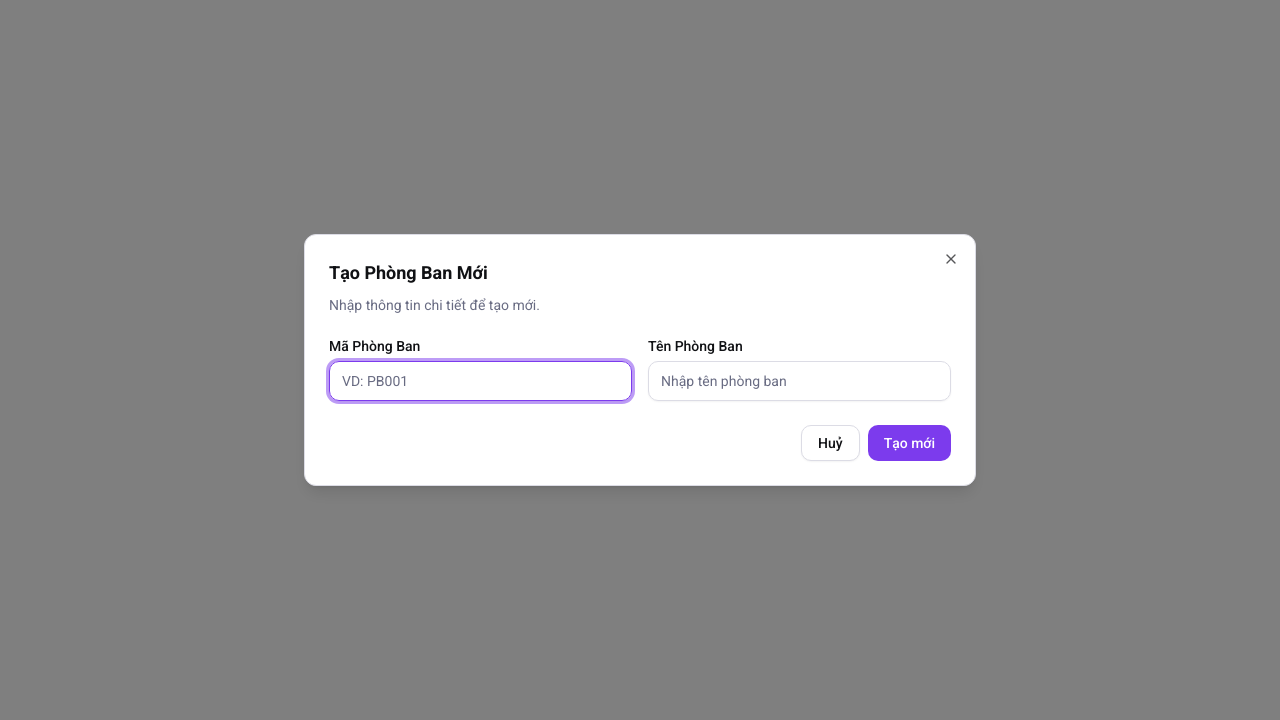
Scenario: CreateDepartmentDialog › shows validation error for short TenPB
Type "PB999" into the field labelled "Mã Phòng Ban".
click(480, 381); type("PB999")  # box [329,361,632,401]
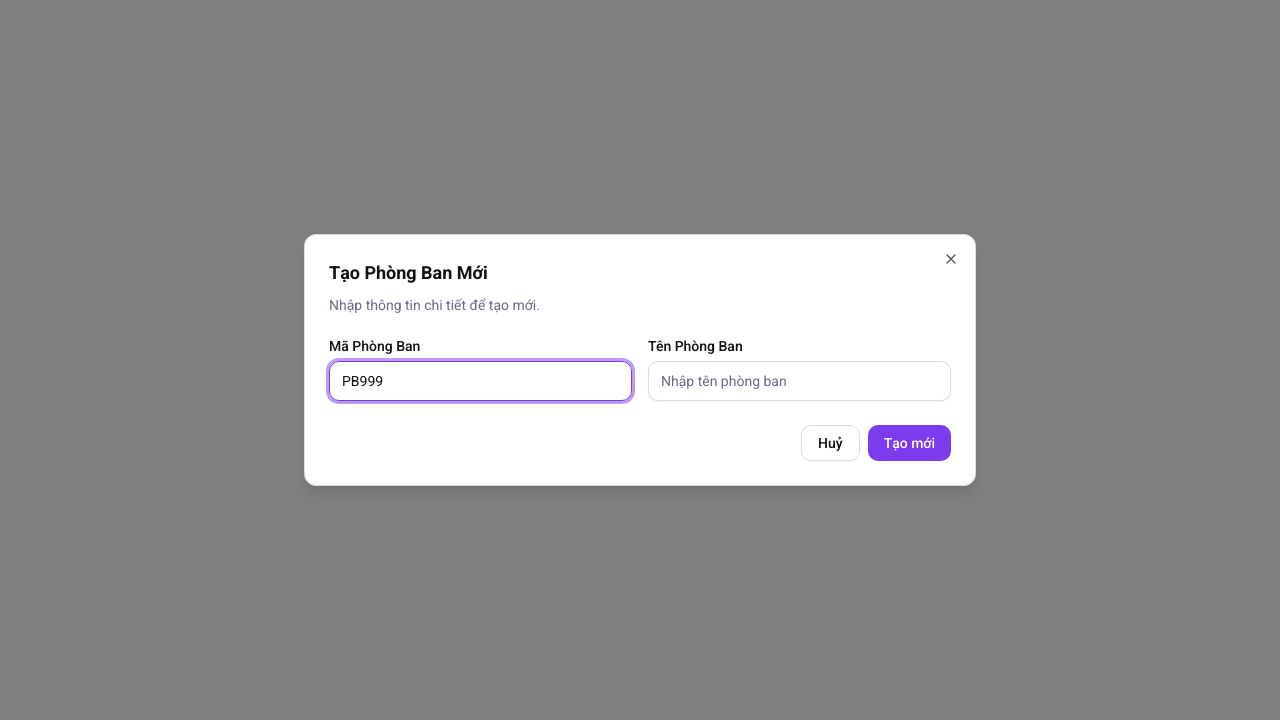
Type "A" into the field labelled "Tên Phòng Ban".
click(800, 381); type("A")  # box [648,361,951,401]
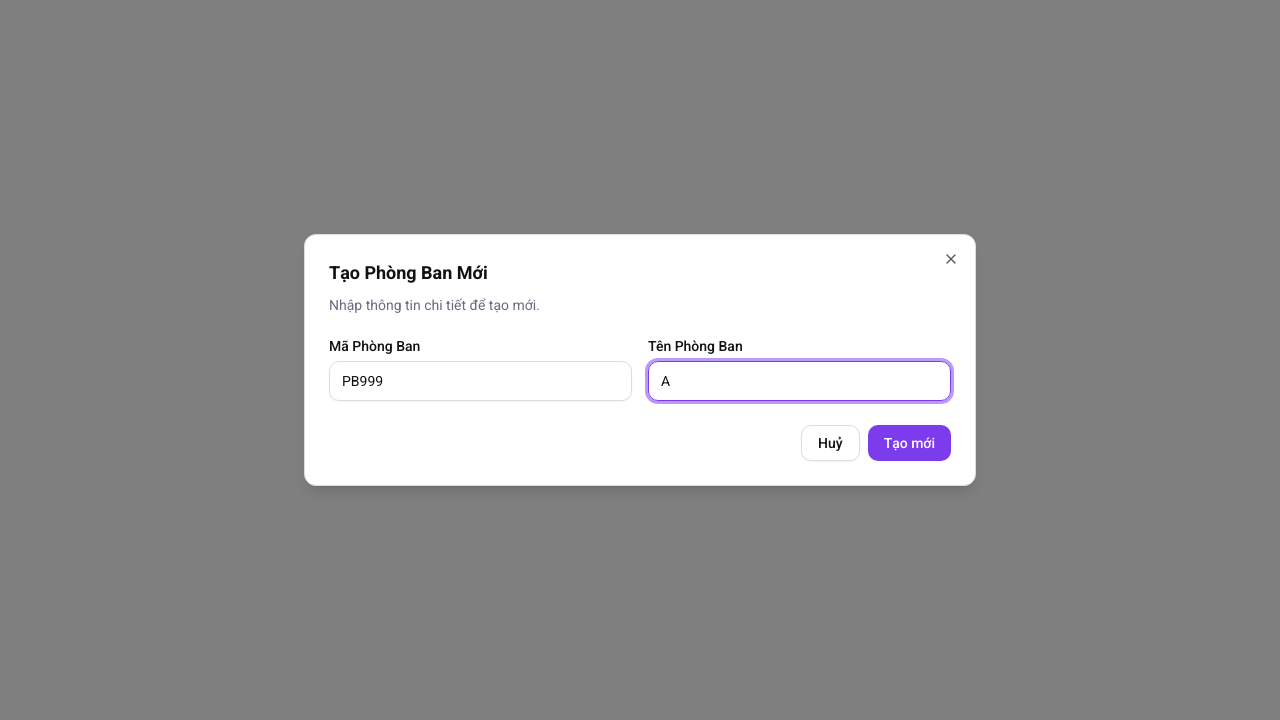
Submit the form, box [329,259,951,461]
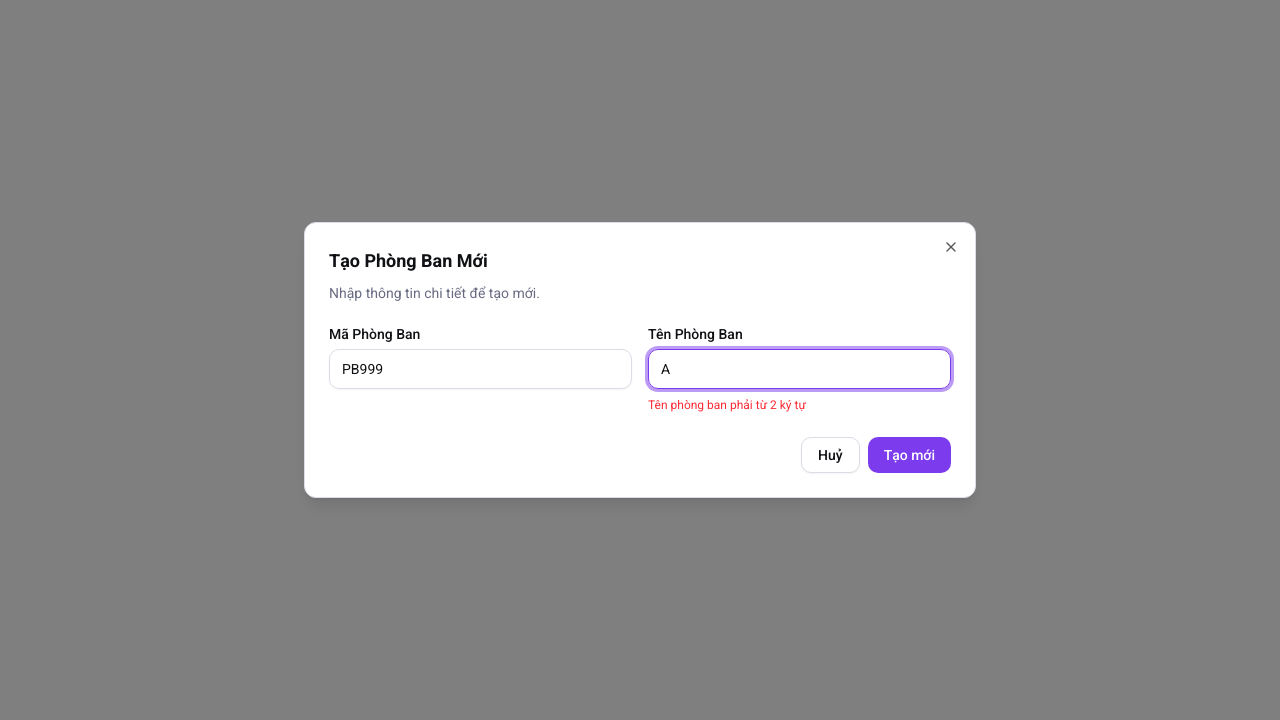
Expected: the text "Tên phòng ban phải từ 2 ký tự" is shown, [648,398,806,412]
